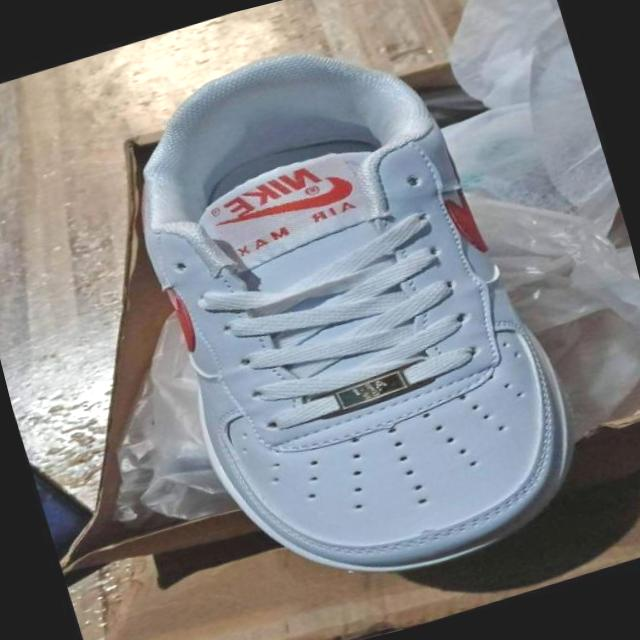nike_fake_airforce: (84, 0, 602, 634)
